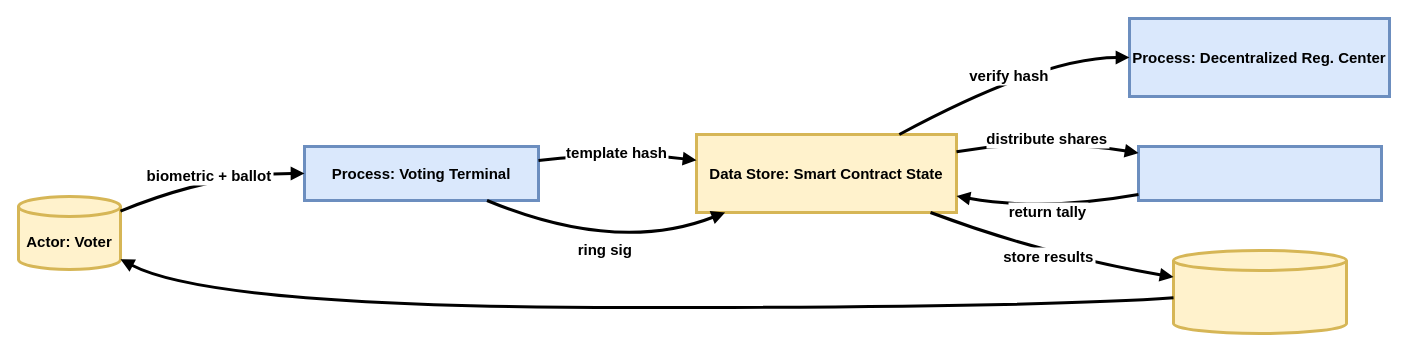
Some shapes in this 1408 by 352 pixel diagram are drawn without their labels. Here are the shapes that lost their labels. From the top down, the centre of each, then its label:
At pixel 1259 173: "Process: CSP Tally Service".
At pixel 1260 291: "Data Store: Final Tally".
